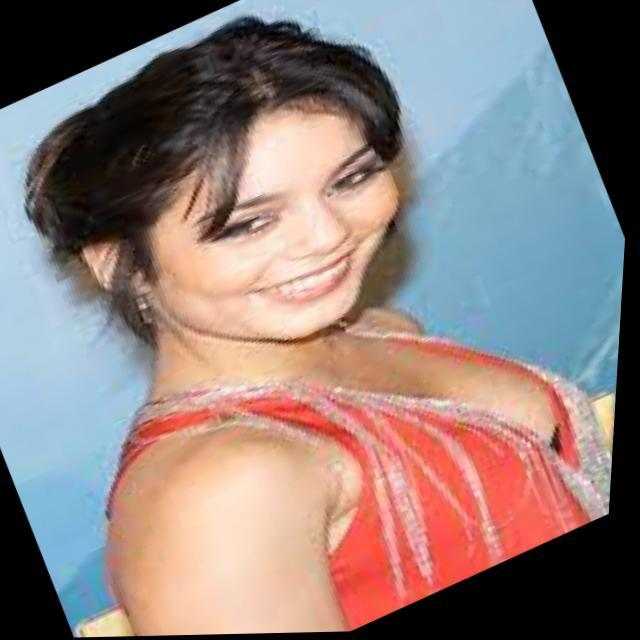Nonhelmet: (21, 14, 417, 353)
